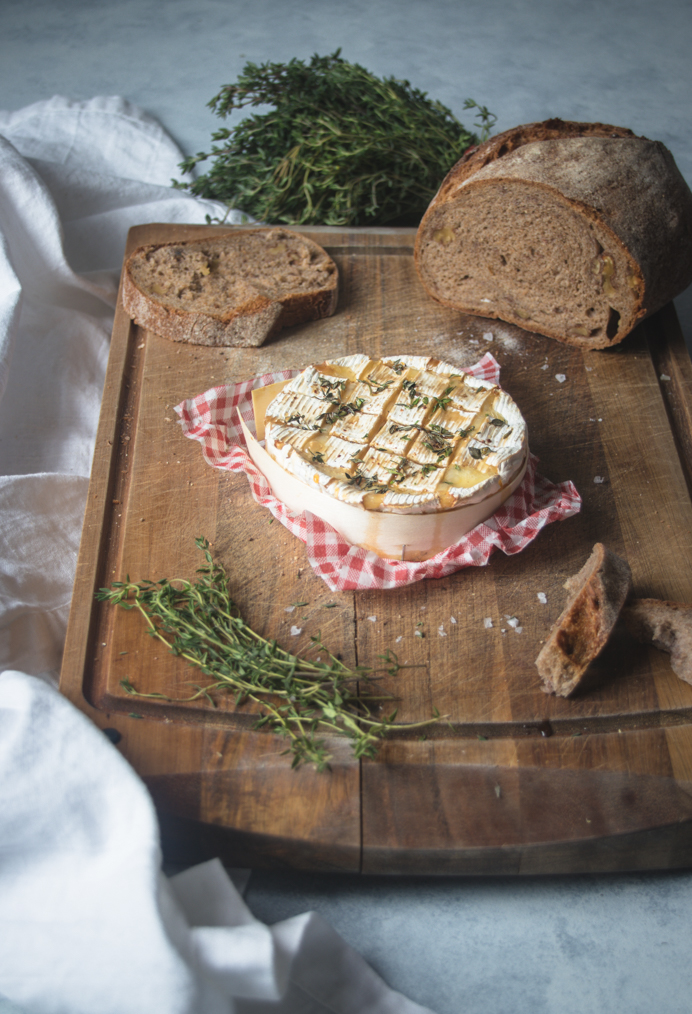camembert: (262, 351, 528, 520)
